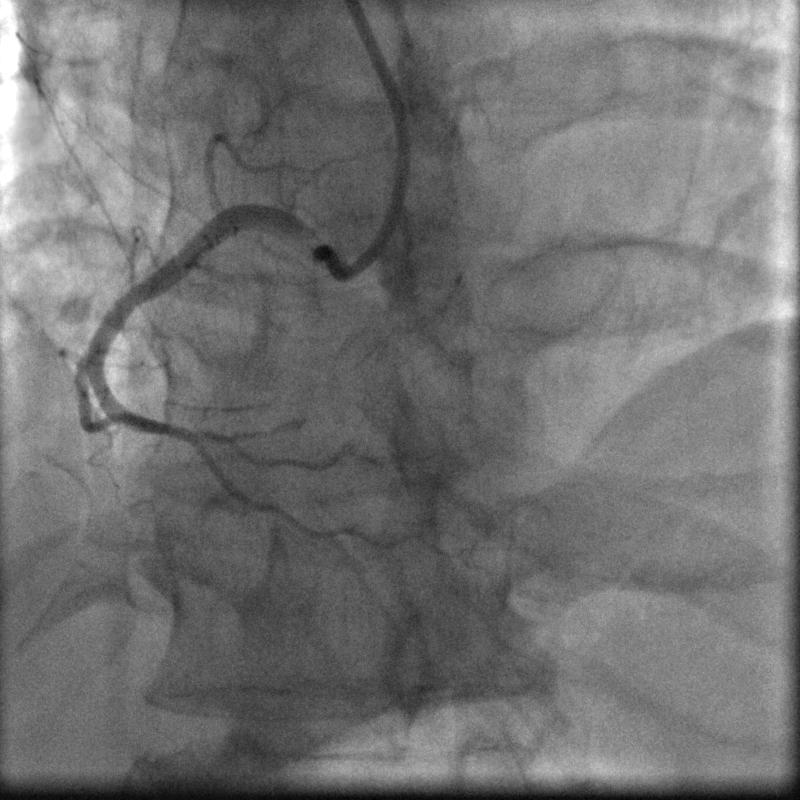Stenosis: (139, 416, 206, 444)
